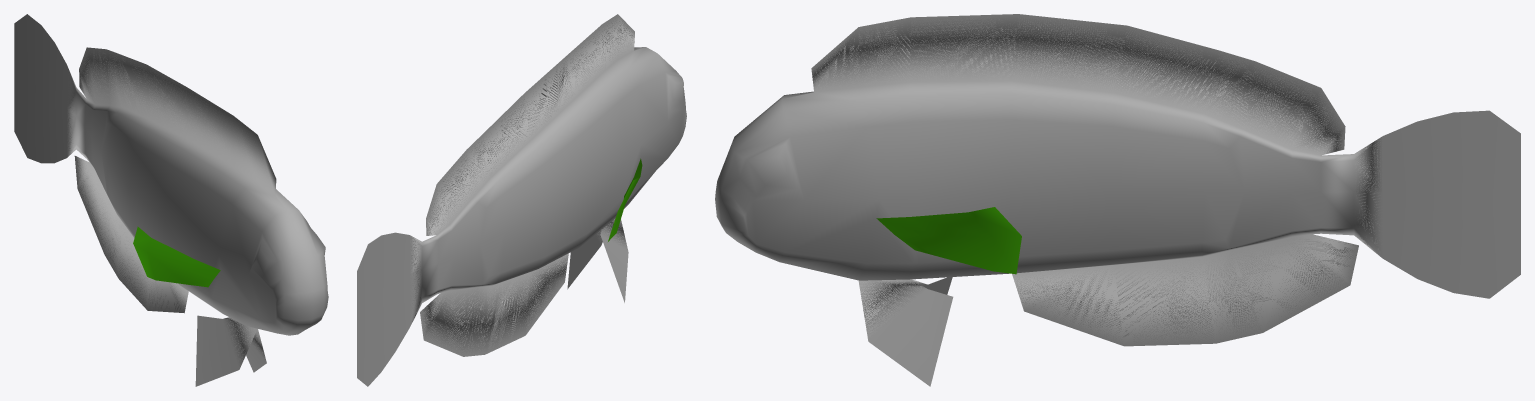
The model's file is Labridae_E_S.fbx.
3 views of the same model, side by side, from view 1: azimuth 30°, elevation 25°; view 2: azimuth 150°, elevation 25°; view 3: azimuth 270°, elevation 25° (orthographic). The views are drawn at different scales.
Visible parts, largest first — view 1: Labridae_E_S_Mesh; view 2: Labridae_E_S_Mesh; view 3: Labridae_E_S_Mesh.
Part boxes in pixels (x1,y1,x2,y2): Labridae_E_S_Mesh: [14, 14, 328, 386]; Labridae_E_S_Mesh: [357, 14, 686, 386]; Labridae_E_S_Mesh: [715, 14, 1520, 386].
Size of the model in its own units: 0.00215 by 0.0047 by 0.00975.
